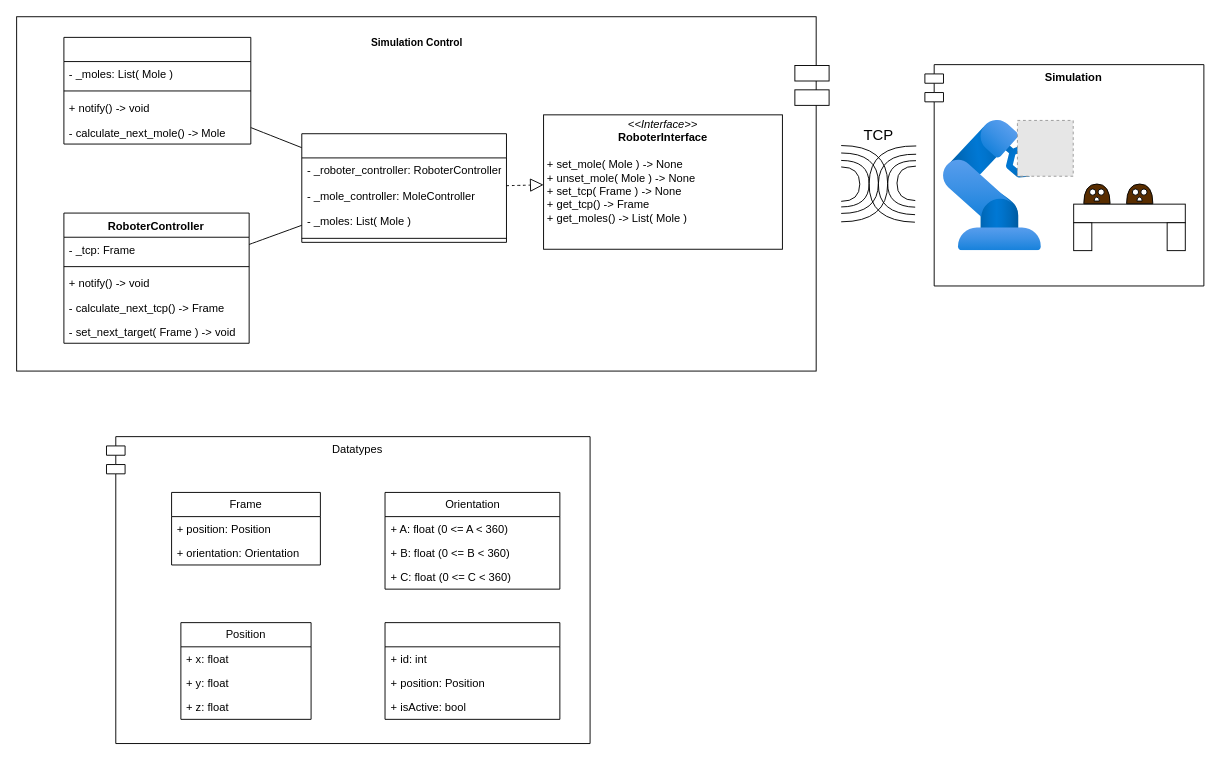
Some shapes in this 1220 by 760 pixel diagram are drawn without their labels. Grey dashed boxes stand in for pictures. Here are the shapes that lost their labels. From the top down, the box of each, then its label:
(63, 36, 251, 144): MoleController
(301, 133, 506, 242): Communicator
(384, 622, 560, 719): Mole
